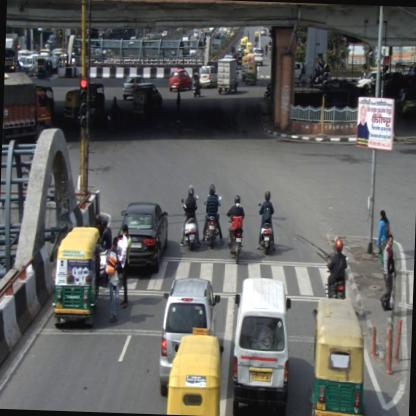car: (231, 280, 293, 415), (158, 277, 220, 397), (115, 202, 170, 272), (168, 68, 192, 93), (200, 65, 218, 91), (252, 47, 264, 66)
motorcycle: (178, 184, 201, 254), (202, 182, 222, 249), (256, 187, 275, 254), (226, 196, 245, 262), (191, 76, 202, 98)
truck: (3, 72, 56, 150), (215, 58, 241, 97), (5, 31, 20, 74)
